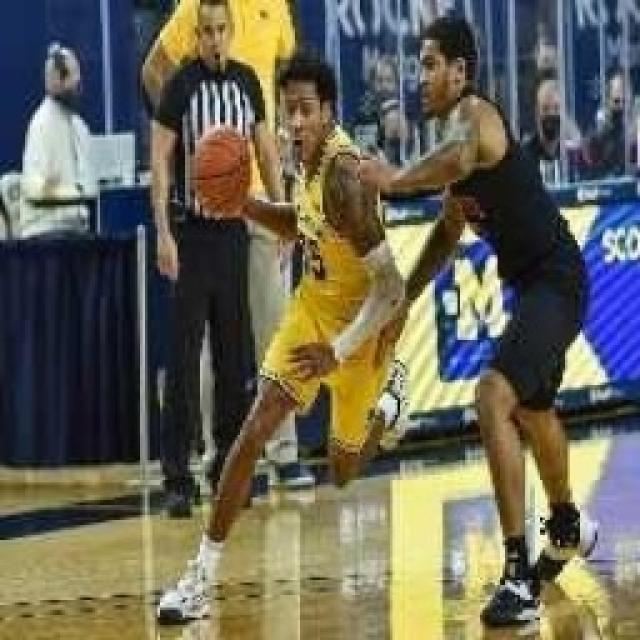rim: (192, 121, 258, 225)
